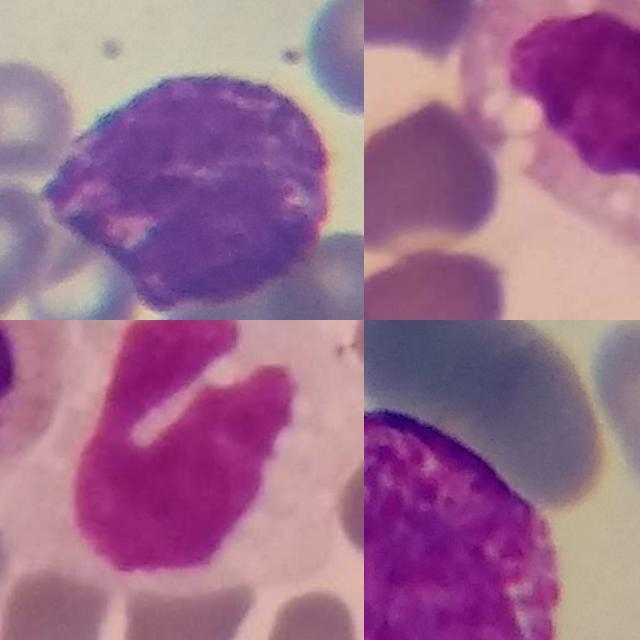Basophil: (42, 69, 336, 320), (364, 405, 564, 640)
Eosinophil: (0, 320, 71, 505)
Monocyte: (65, 320, 364, 595), (470, 0, 640, 261)
